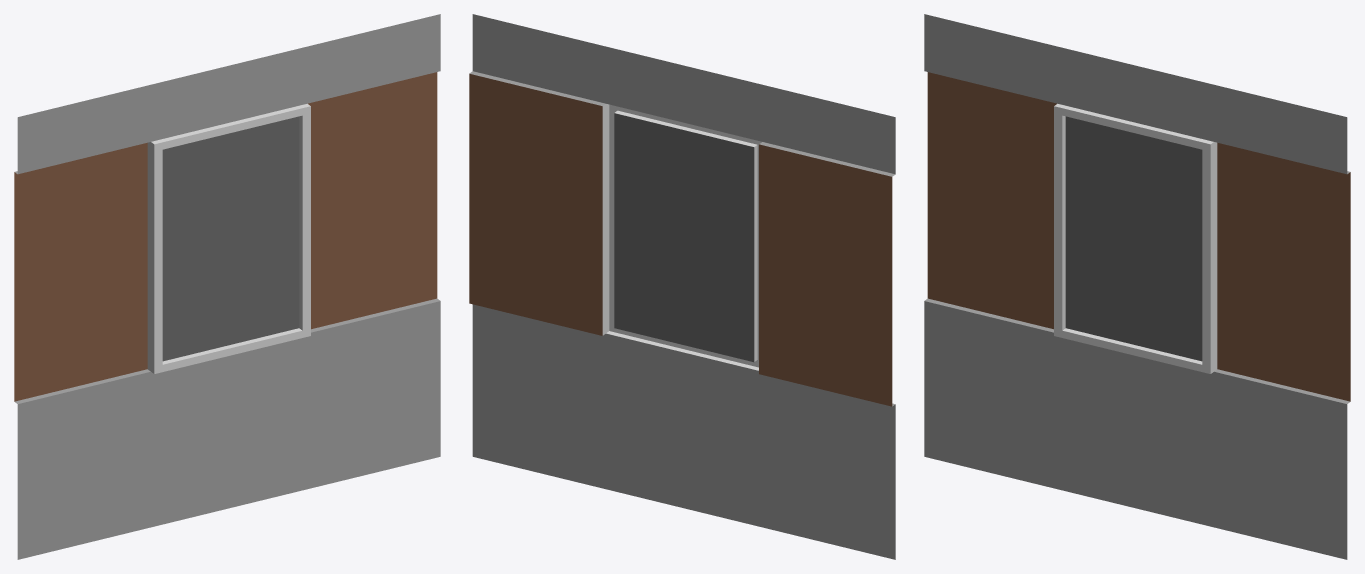
File: S2_Window.fbx
3 renders of one model, left to right at view 1: azimuth 30°, elevation 25°; view 2: azimuth 150°, elevation 25°; view 3: azimuth 330°, elevation 25°, orthographic.
Visible parts, largest first — view 1: S2_Window; view 2: S2_Window; view 3: S2_Window.
Part boxes in pixels (bbox=[...]): S2_Window: bbox=[14, 14, 440, 559]; S2_Window: bbox=[469, 14, 895, 559]; S2_Window: bbox=[924, 14, 1350, 559].
Size of the model in its own units: 30 by 30 by 0.8366.
